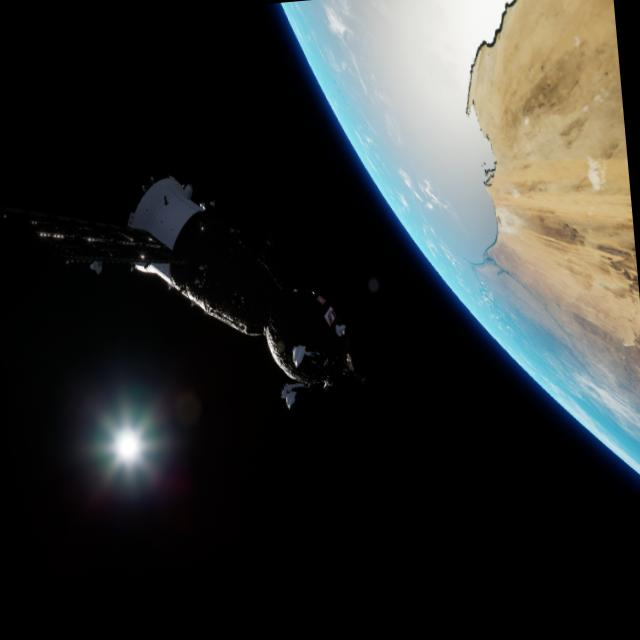Satellites revolving around earth: (0, 152, 360, 423)
